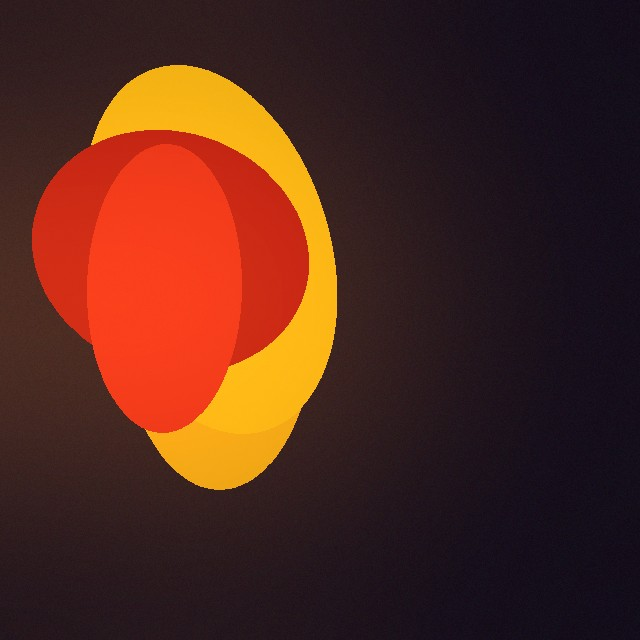fire: (29, 174, 345, 428)
